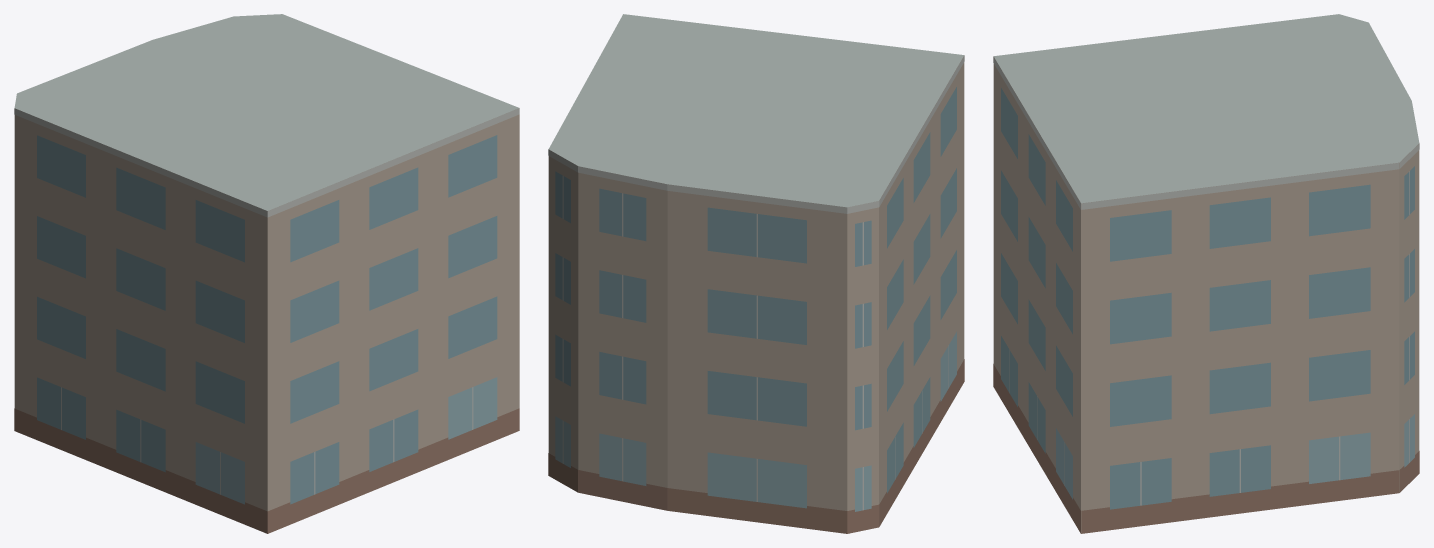
Rendered from survey-upis-32664977.glb.
3 renders of one model, left to right at view 1: azimuth 30°, elevation 25°; view 2: azimuth 150°, elevation 25°; view 3: azimuth 270°, elevation 25°, orthographic. The views are drawn at different scales.
Visible parts, largest first — view 1: survey-upis-32664977.tmp; view 2: survey-upis-32664977.tmp; view 3: survey-upis-32664977.tmp.
Boxes of the visible parts, x1,y1,x2,y2 form: survey-upis-32664977.tmp: (14,14,519,533); survey-upis-32664977.tmp: (548,14,964,533); survey-upis-32664977.tmp: (993,14,1419,533).
Size of the model in its own units: 15 by 12.2 by 14.26.
